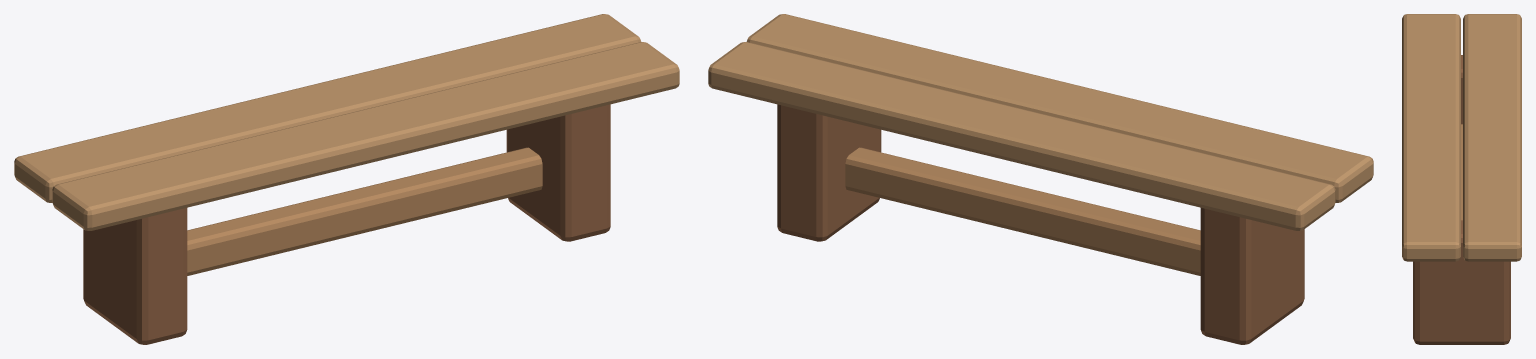
Rendered from bench_timber.glb.
3 renders of one model, left to right at view 1: azimuth 30°, elevation 25°; view 2: azimuth 150°, elevation 25°; view 3: azimuth 270°, elevation 25°, orthographic. The views are drawn at different scales.
Visible parts, largest first — view 1: bench_timber; view 2: bench_timber; view 3: bench_timber.
Part boxes in pixels (bbox=[...]): bench_timber: bbox=[14, 14, 679, 344]; bench_timber: bbox=[708, 14, 1373, 344]; bench_timber: bbox=[1402, 14, 1521, 344].
Size of the model in its own units: 1.8 by 0.46 by 0.393.
